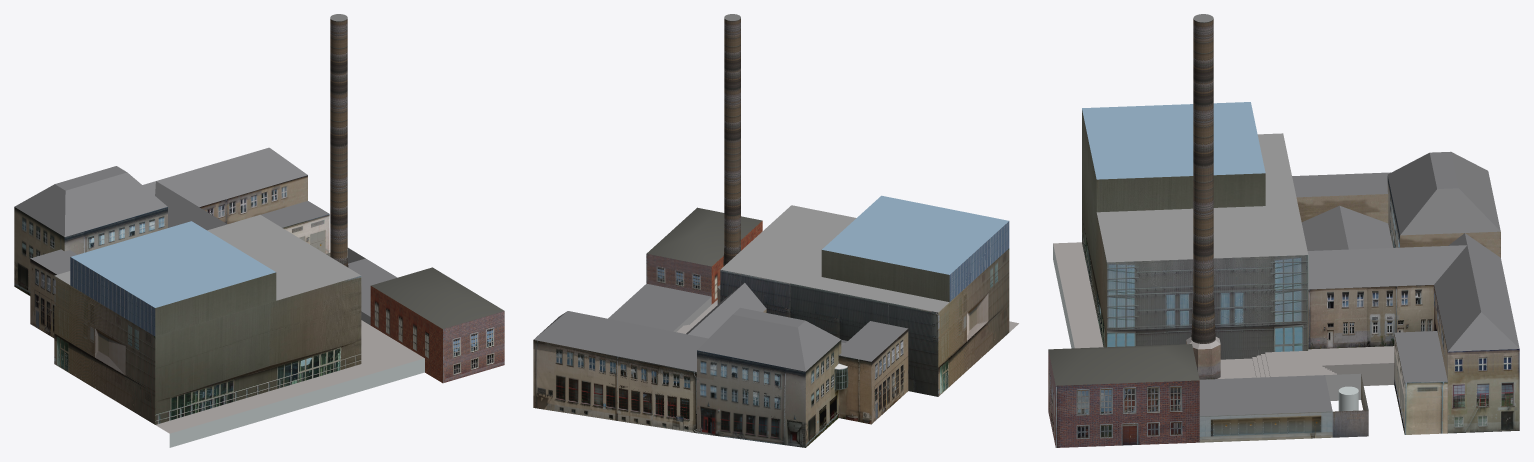
File: Walther-Pauer-Bau.gltf
3 renders of one model, left to right at view 1: azimuth 30°, elevation 25°; view 2: azimuth 150°, elevation 25°; view 3: azimuth 270°, elevation 25°, orthographic. The views are drawn at different scales.
Visible parts, largest first — view 1: Hauptgebaeude.1; view 2: Hauptgebaeude.1; view 3: Hauptgebaeude.1.
Part boxes in pixels (bbox=[...]): Hauptgebaeude.1: bbox=[14, 14, 504, 447]; Hauptgebaeude.1: bbox=[533, 14, 1018, 447]; Hauptgebaeude.1: bbox=[1048, 14, 1519, 447].
Bounding box in the file's own units: 64.49 × 57 × 65.3.
35 materials, 25 textured.
